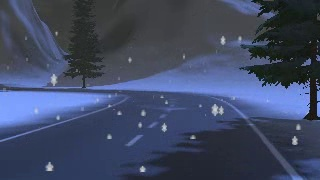Lane: (0, 86, 303, 179)
